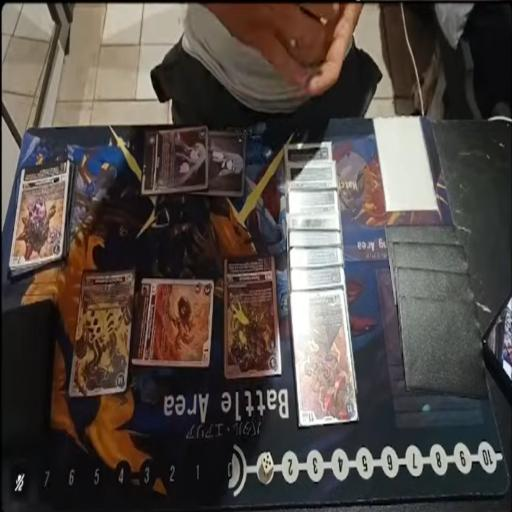card: (68, 267, 140, 400), (286, 286, 350, 435), (130, 276, 213, 367), (220, 254, 278, 383), (15, 161, 70, 269), (141, 124, 209, 198), (202, 131, 247, 199), (286, 190, 344, 240), (286, 152, 337, 197), (288, 266, 346, 300), (289, 241, 344, 272), (283, 139, 332, 167), (288, 228, 342, 250)
